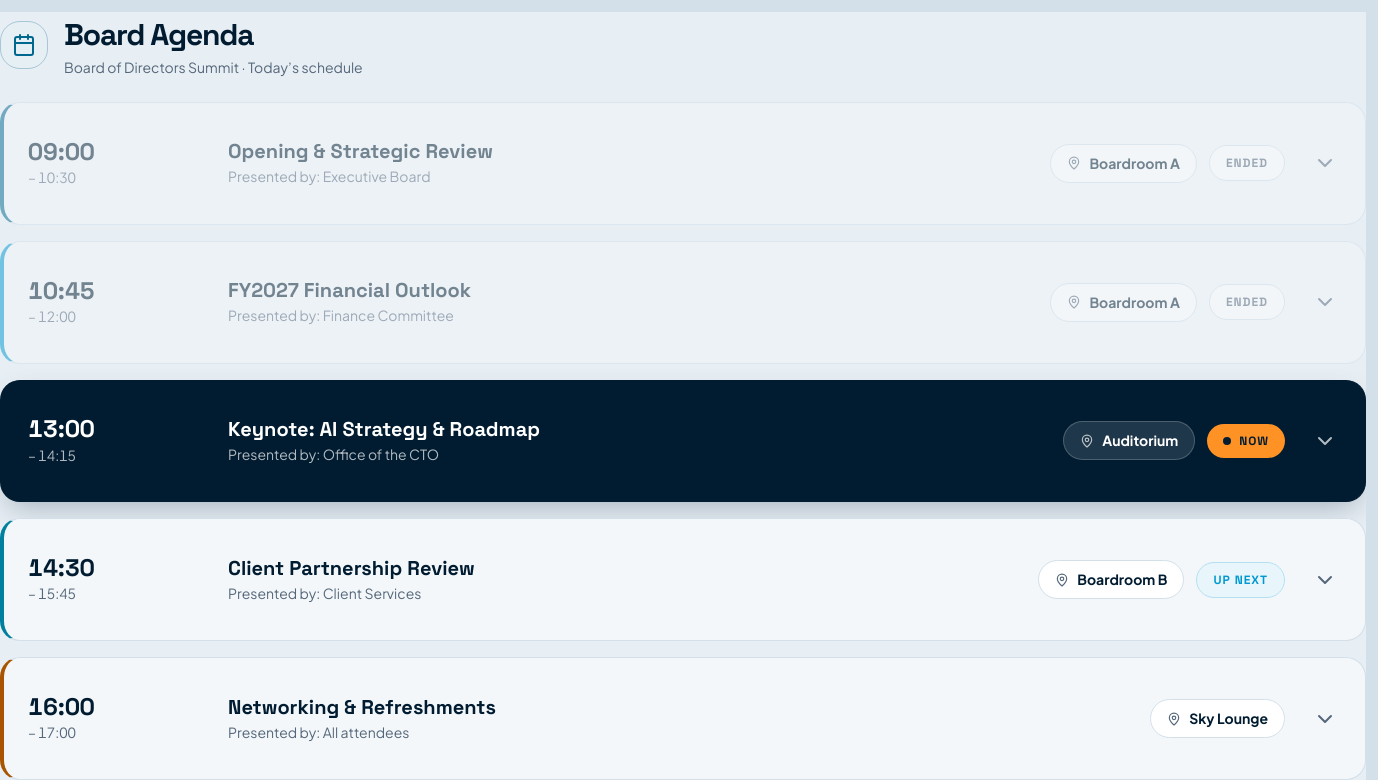
BoardAgenda rows › collapses the same session on a second tap
This screenshot has width=1378, height=780.
Click the button "Keynote: AI Strategy & Roadmap" at (684,441), box left=4, top=381, right=1365, bottom=501
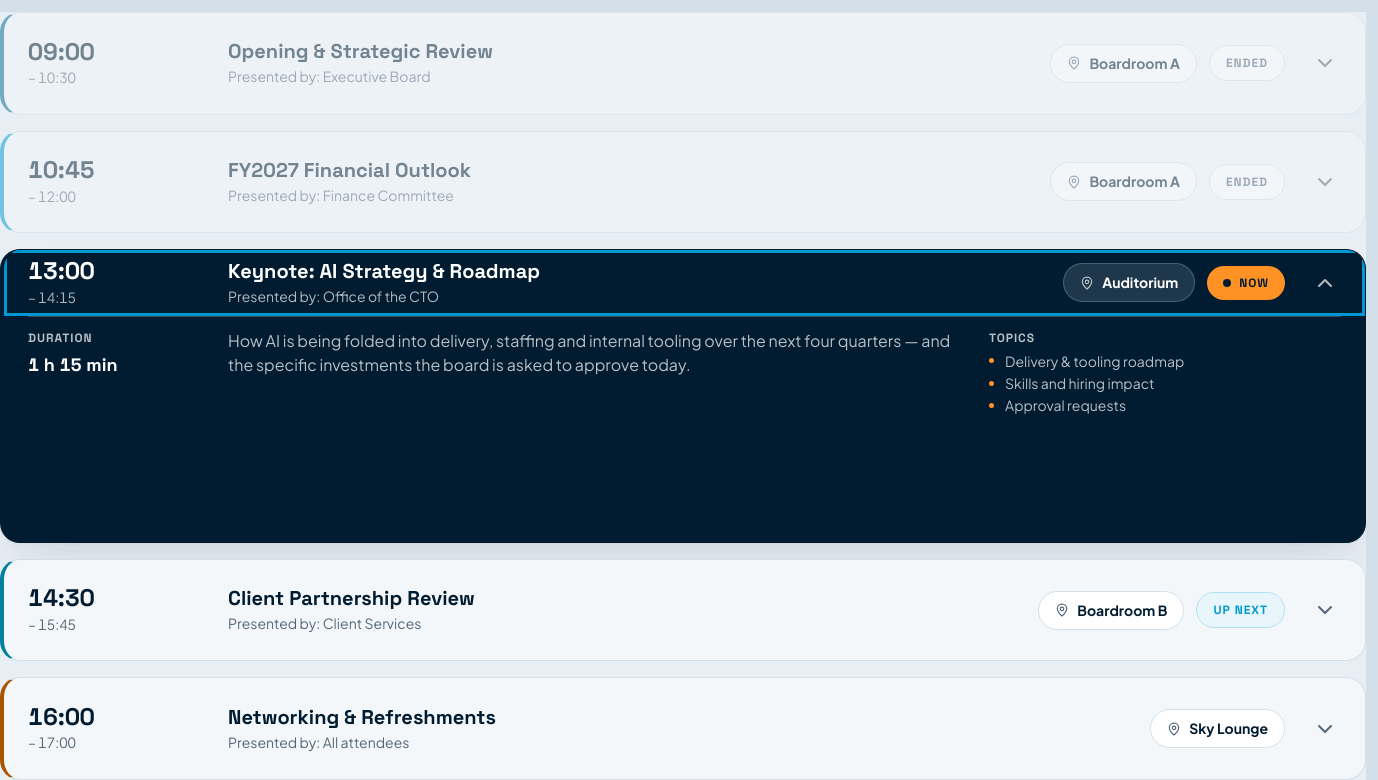
Click the button "Keynote: AI Strategy & Roadmap" at (61,271), box left=4, top=250, right=1365, bottom=316
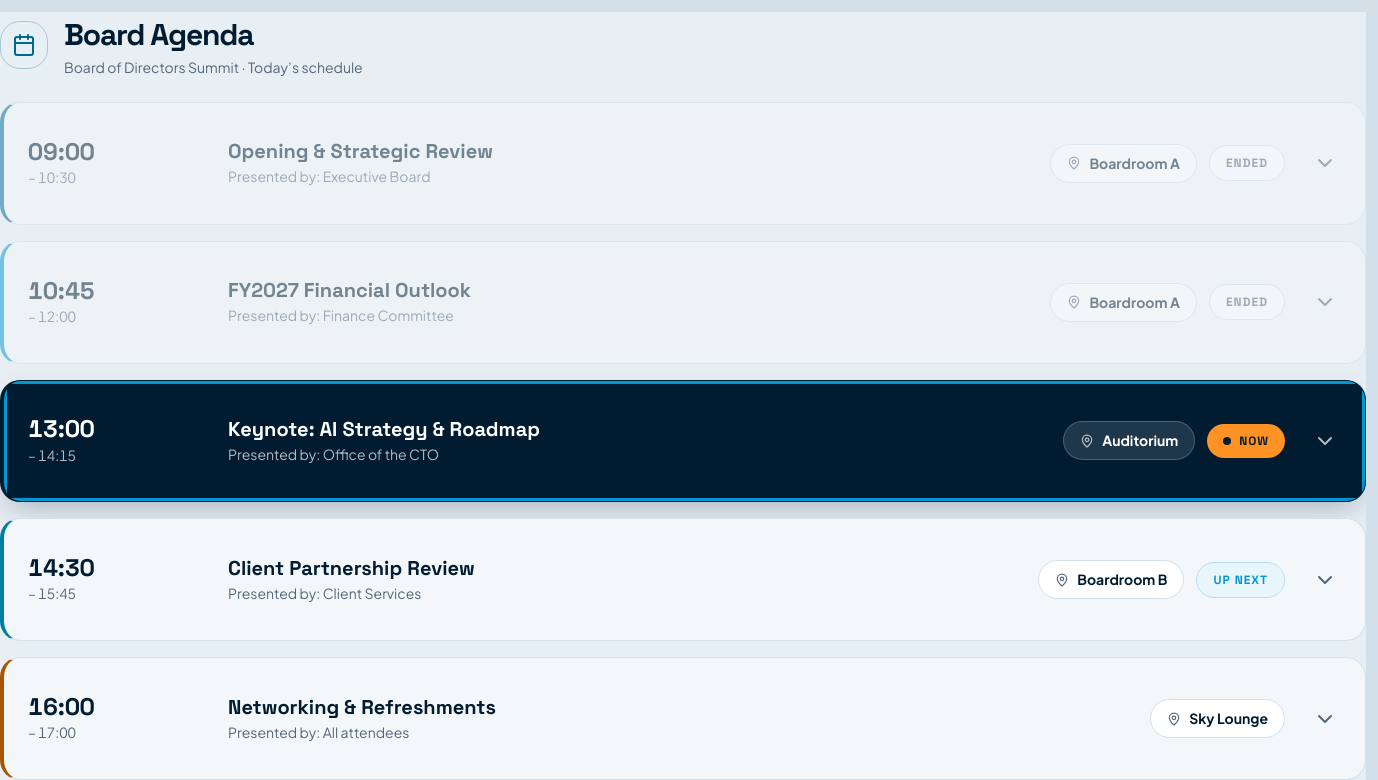
Result: the button "Keynote: AI Strategy & Roadmap" is collapsed at left=4, top=381, right=1365, bottom=501
